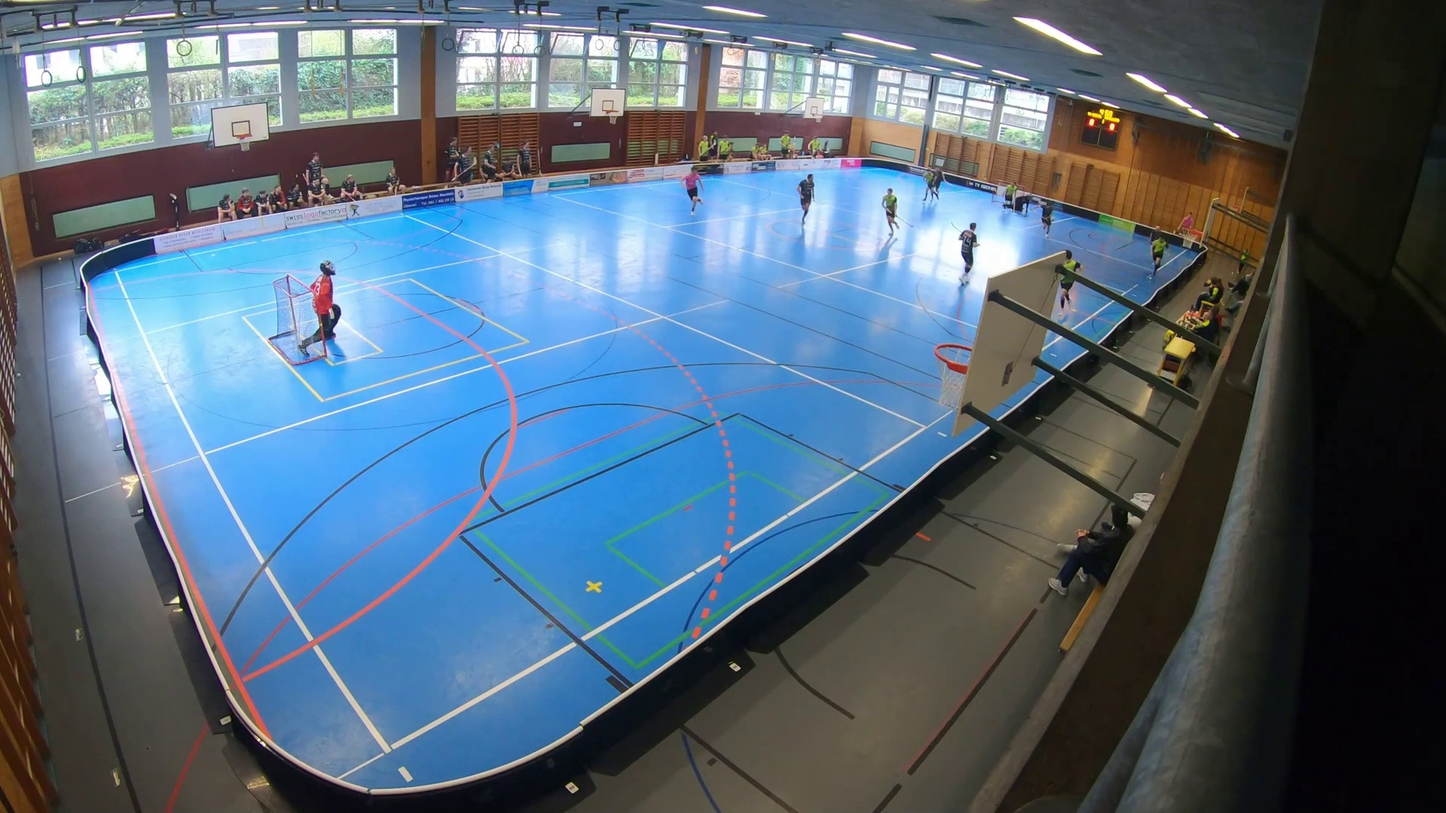Schiri: (679, 163, 709, 214), (1176, 211, 1193, 243)
ball: (1149, 276, 1154, 280)
goalkeeper: (298, 260, 340, 354), (1009, 194, 1037, 215)
player: (949, 218, 983, 288), (879, 186, 916, 241), (1052, 247, 1081, 314), (790, 172, 824, 224), (1146, 236, 1170, 284), (1030, 200, 1056, 238), (934, 167, 957, 201), (995, 181, 1019, 209), (922, 169, 940, 202), (1148, 221, 1162, 244)
